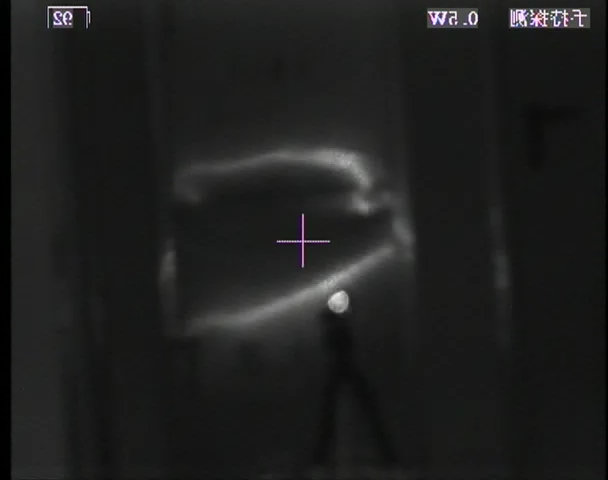my: (328, 288, 351, 314)
